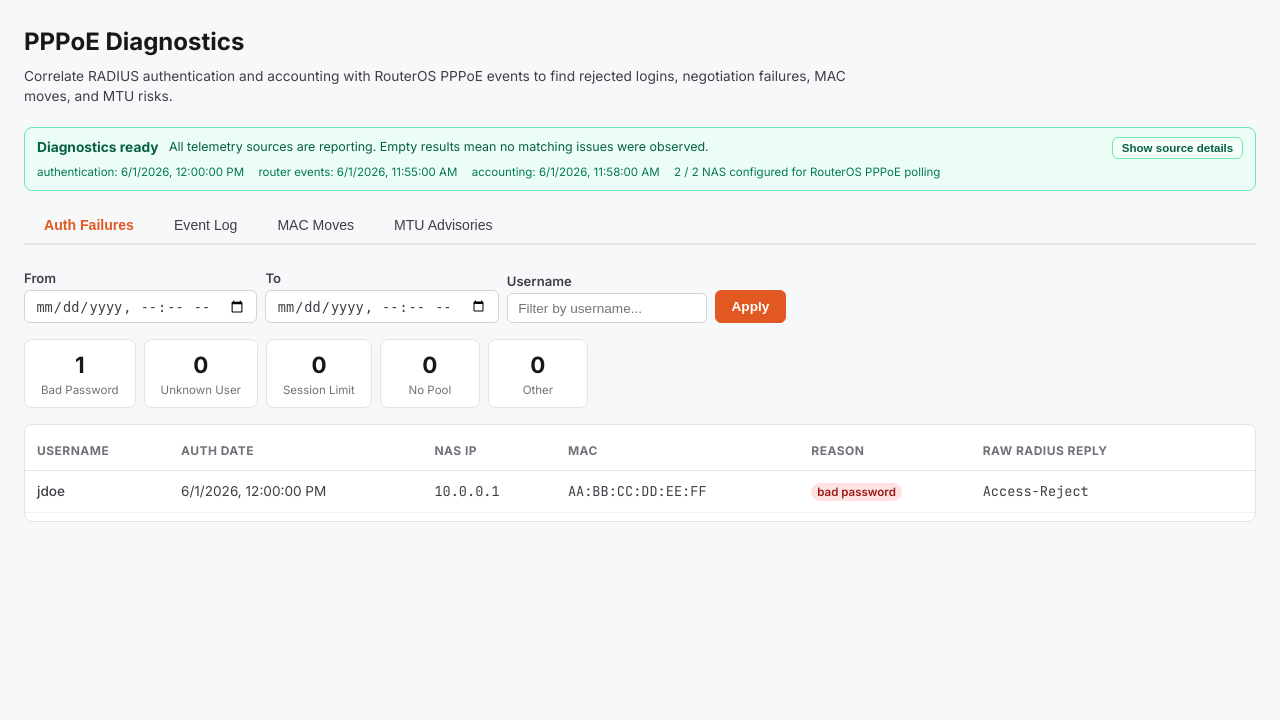
Test: PppoeDiagnostics page › mac moves tab shows mac move events
Click the tab "MAC Moves": {"x": 316, "y": 226} x1=257 y1=207 x2=374 y2=244
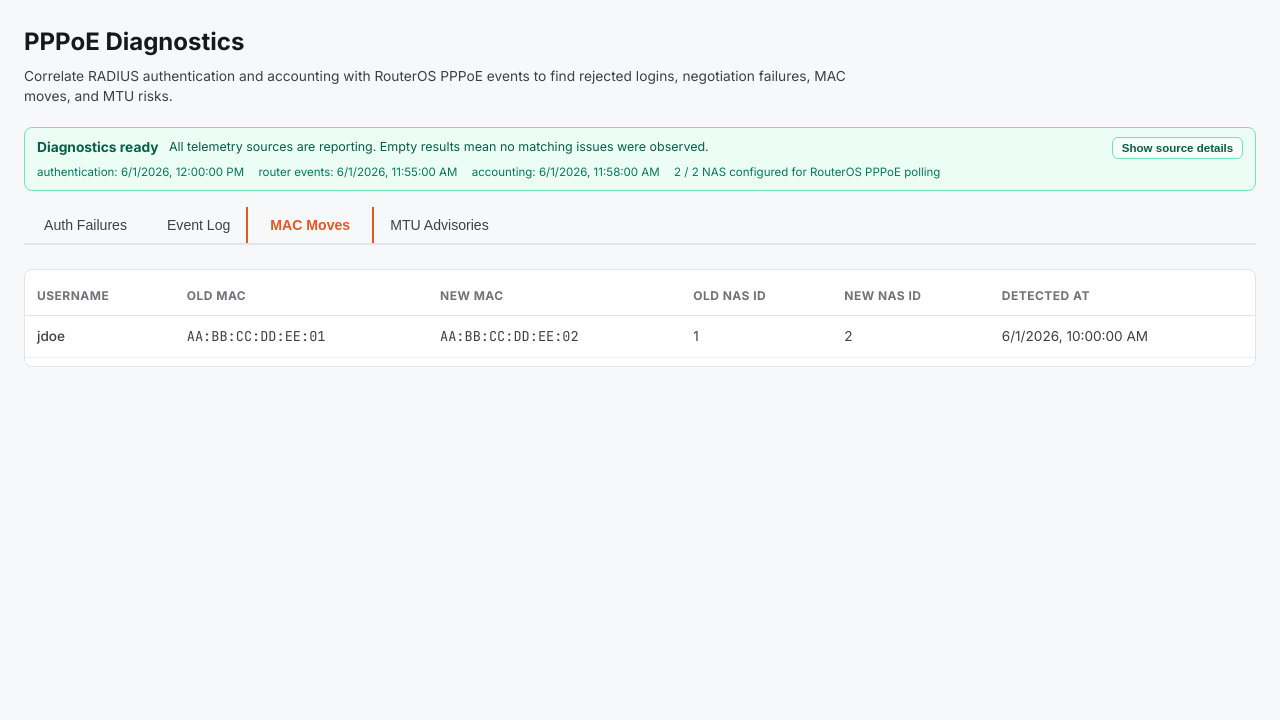
Expected: the text "AA:BB:CC:DD:EE:01" is shown, x1=175 y1=315 x2=428 y2=357
Expected: the text "AA:BB:CC:DD:EE:02" is shown, x1=428 y1=315 x2=681 y2=357
